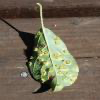Apple rust leaf: (28, 25, 81, 93)
